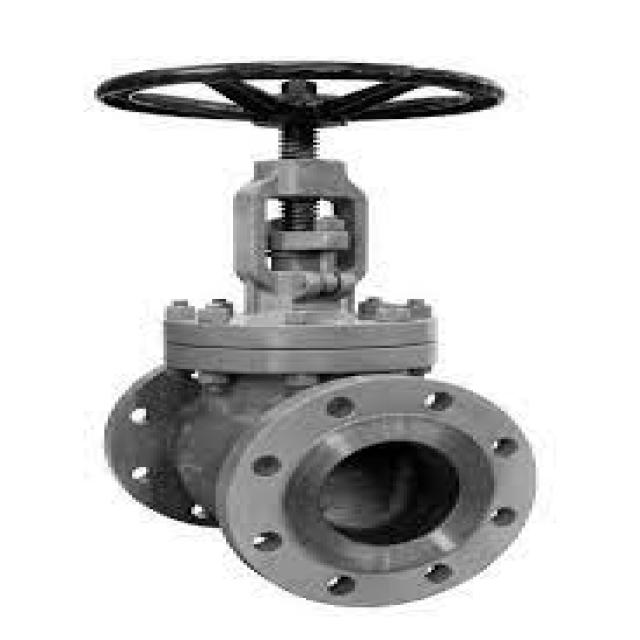Wheel Handle Valve Threaded: (61, 37, 532, 142)
